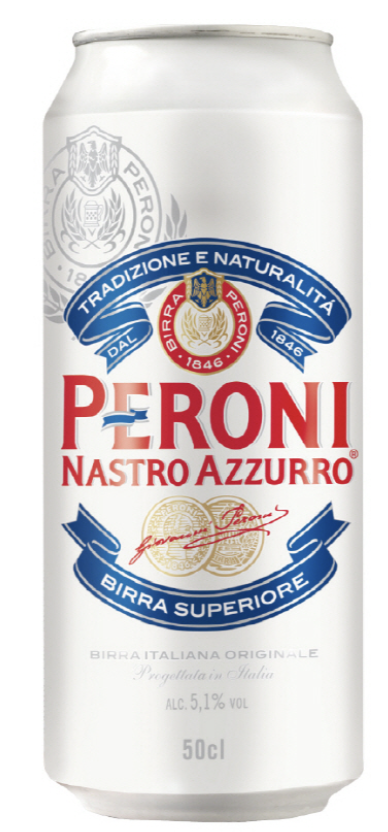beer-can: (42, 24, 363, 822)
